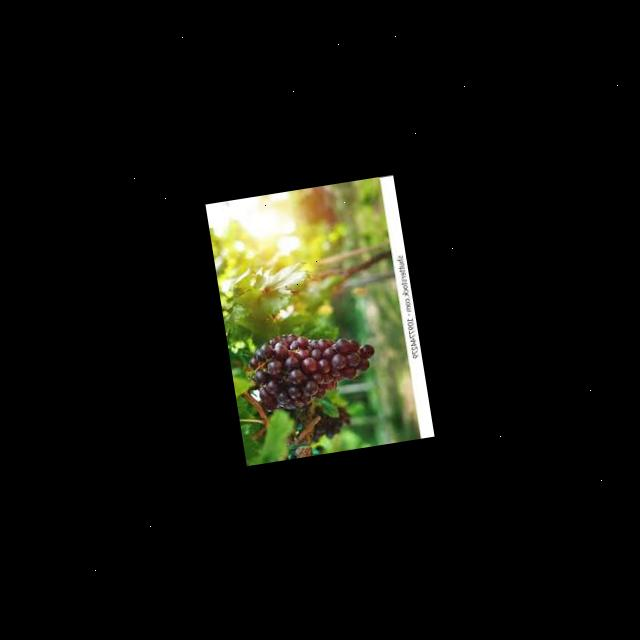grape: (244, 320, 380, 416)
